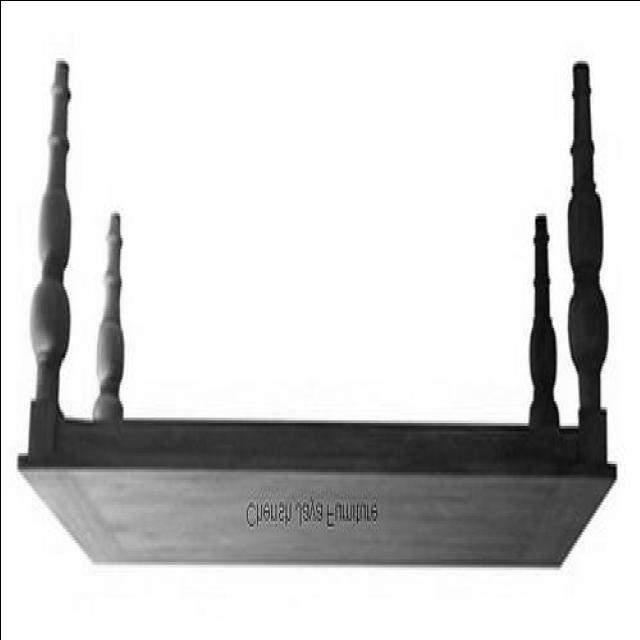table: (14, 62, 616, 566)
